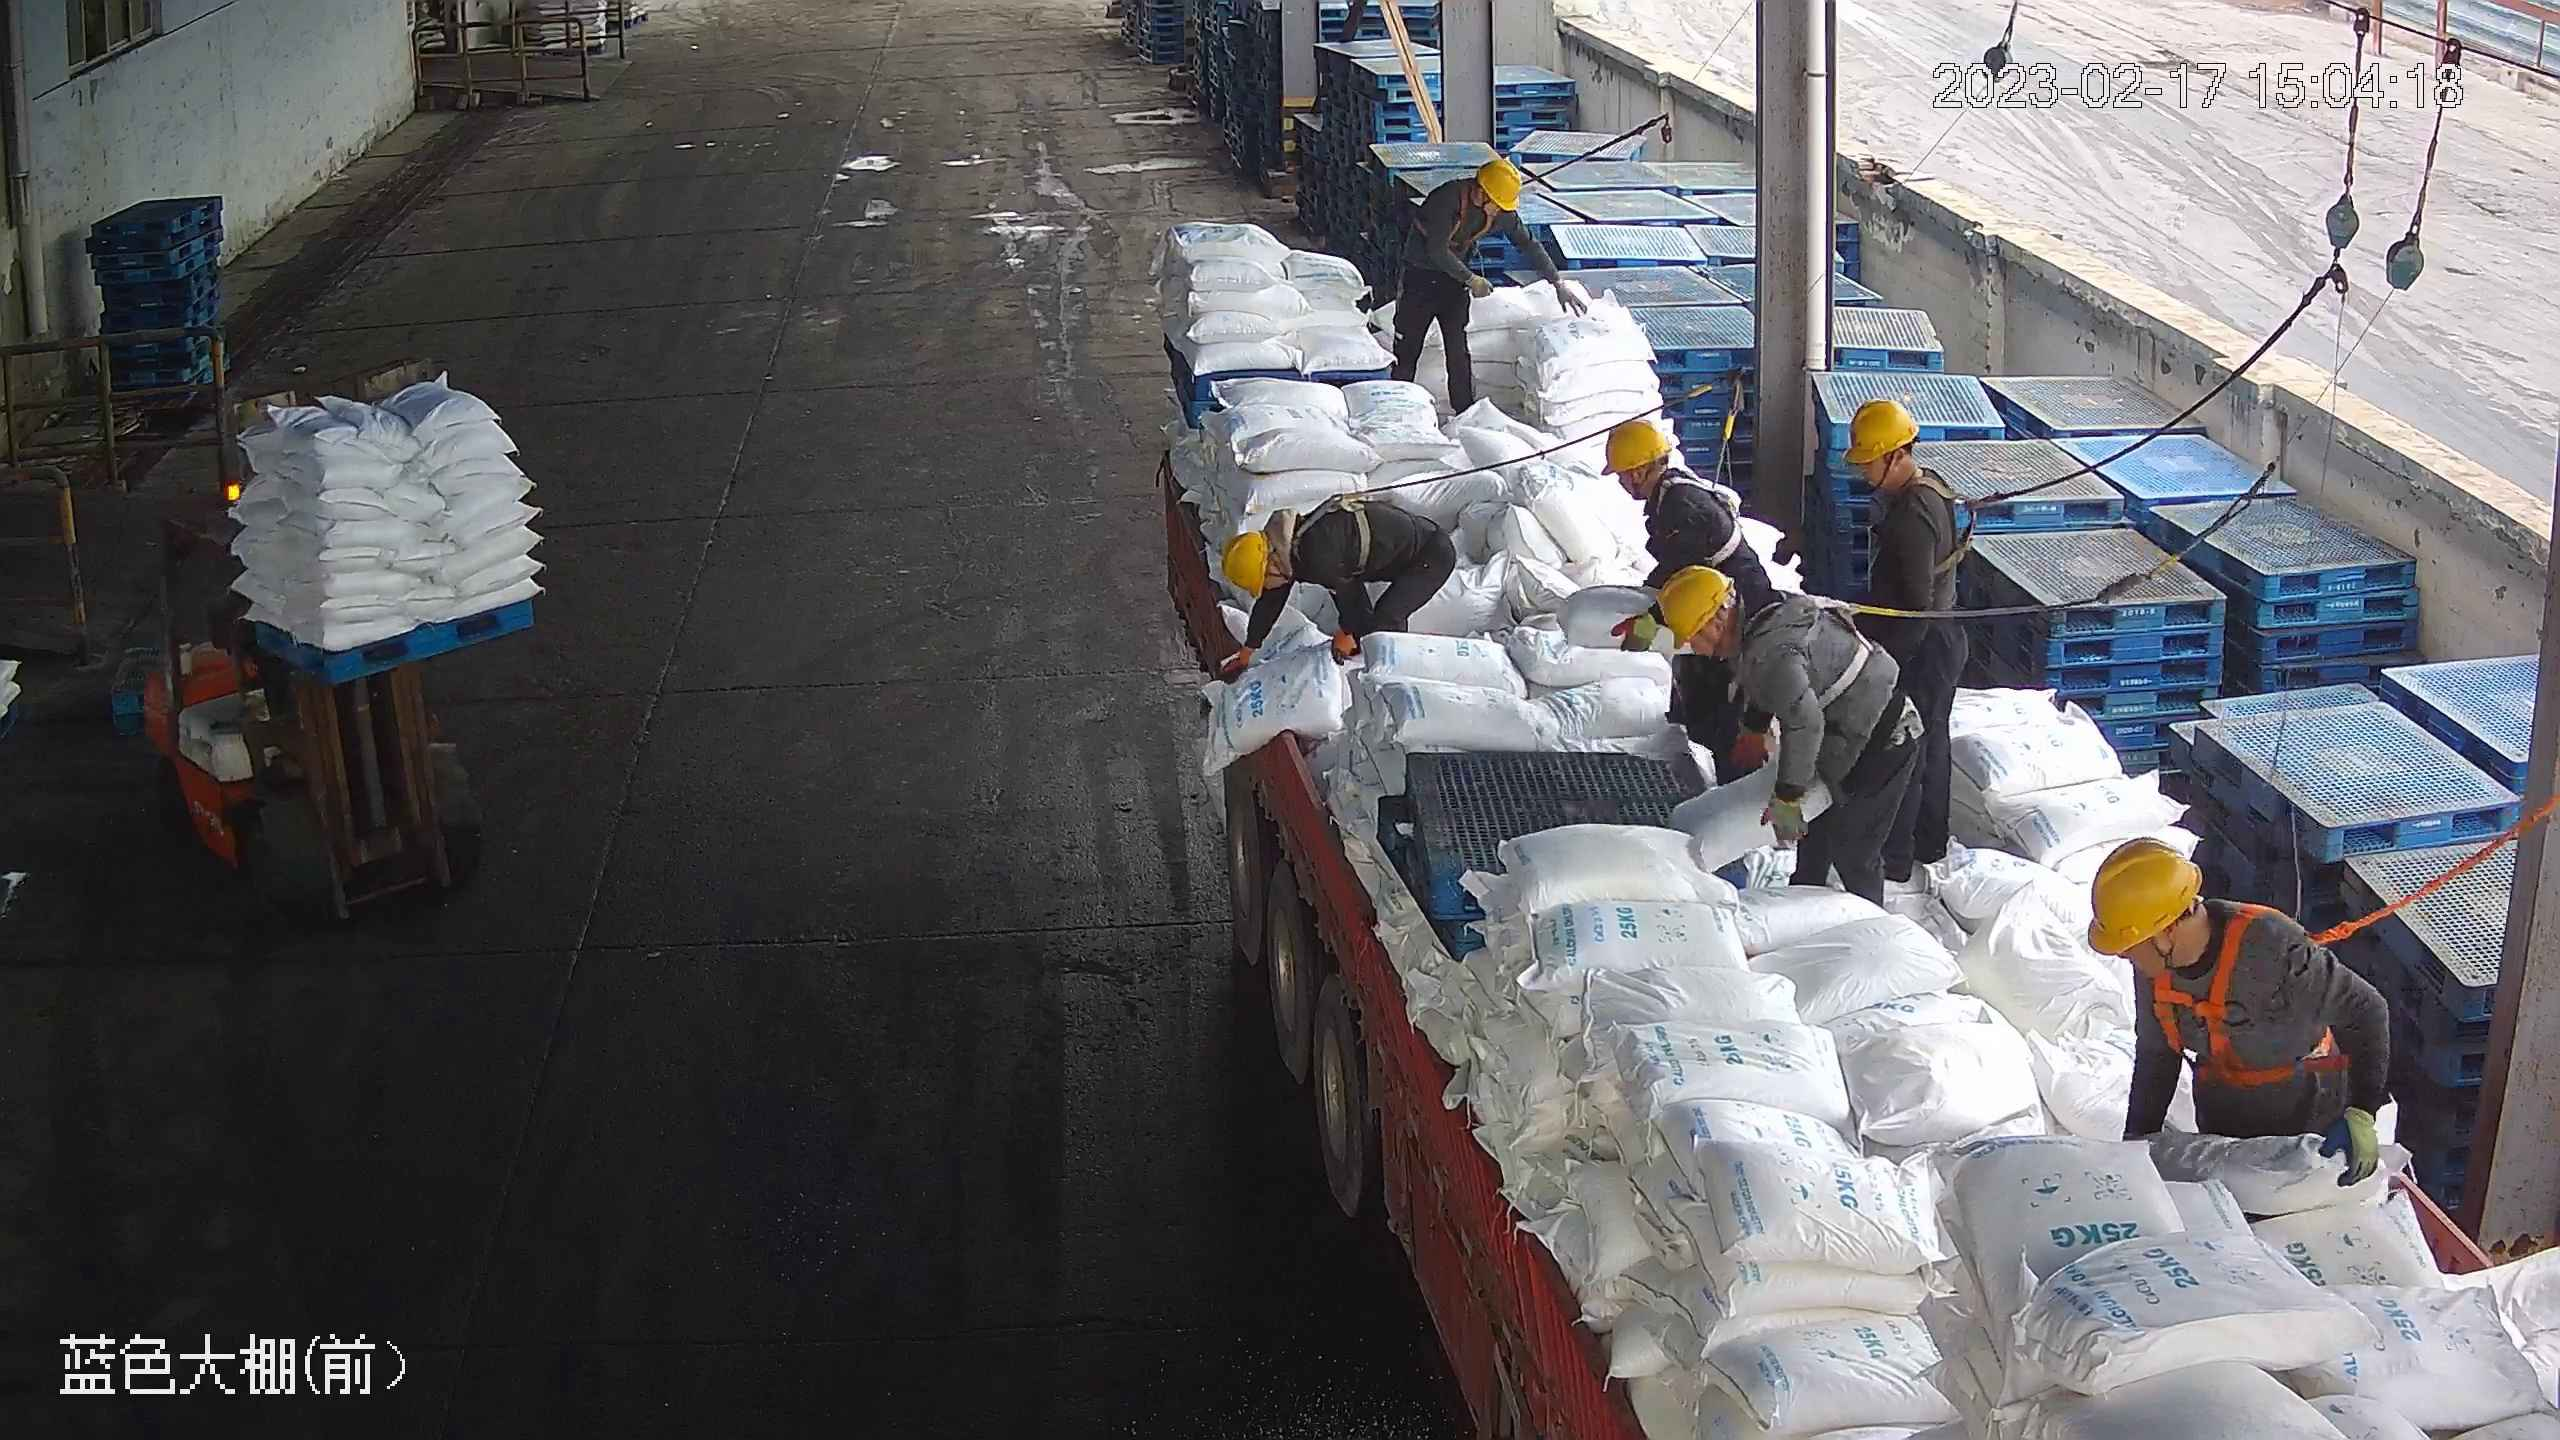belt: (2152, 898, 2347, 1093), (1730, 587, 1891, 719), (1871, 471, 1992, 594), (1278, 480, 1381, 591), (1654, 468, 1763, 566), (1430, 176, 1498, 248)
head: (2079, 833, 2330, 1023), (1659, 562, 1836, 702), (1843, 397, 1965, 538), (1601, 415, 1738, 532), (1218, 504, 1354, 605), (1421, 157, 1525, 244)
helmet: (2083, 833, 2205, 955), (1655, 564, 1735, 649), (1843, 396, 1920, 464), (1601, 414, 1674, 475), (1216, 525, 1273, 598), (1472, 158, 1520, 211)
people: (2069, 826, 2413, 1205), (1651, 561, 1936, 908), (1829, 390, 1978, 868), (1209, 494, 1457, 689), (1381, 152, 1546, 431)
truck: (1148, 315, 2554, 1440)
